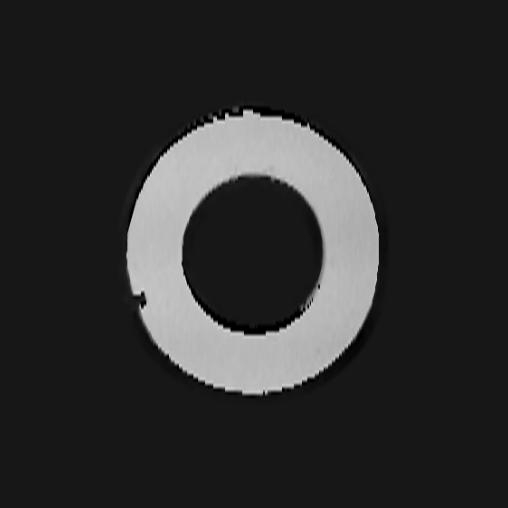defect: (133, 288, 147, 313)
